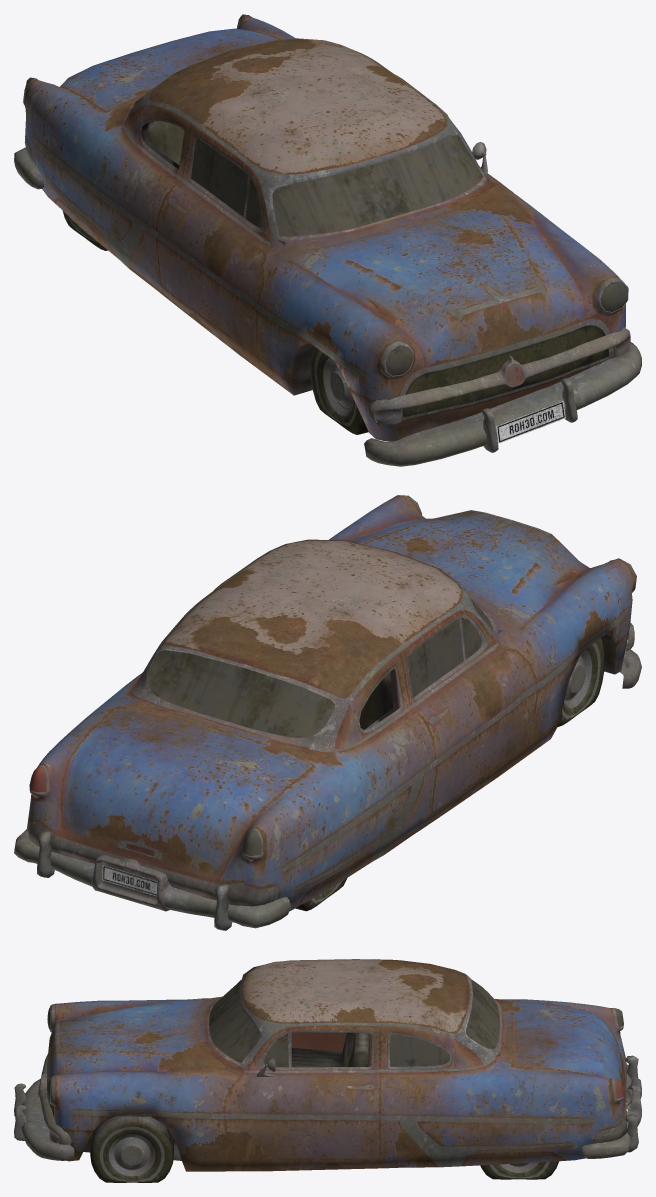
File: car3_hudson_hornet.glb
3 renders of one model, top to bottom at view 1: azimuth 30°, elevation 25°; view 2: azimuth 150°, elevation 25°; view 3: azimuth 270°, elevation 25°, orthographic. The views are drawn at different scales.
Parts seen in each view (by area): view 1: Object_2, Object_3; view 2: Object_2, Object_3; view 3: Object_2, Object_3.
Part boxes in pixels (x1,y1,x2,y2): Object_2: (23, 14, 641, 464); Object_3: (14, 17, 638, 466); Object_2: (14, 495, 641, 930); Object_3: (15, 516, 639, 930); Object_2: (14, 959, 641, 1182); Object_3: (14, 978, 641, 1182).
Size of the model in its own units: 2.08 by 1.47 by 5.3.
1 material, 1 textured.
